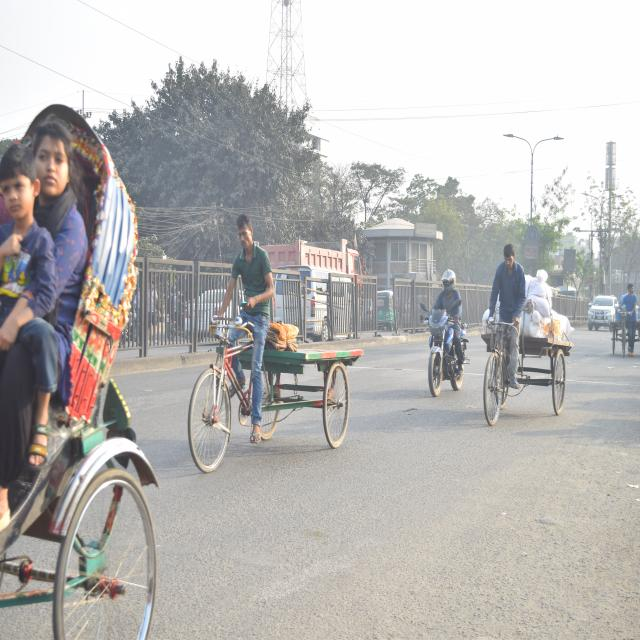car: (584, 285, 618, 332)
motorbike: (416, 290, 474, 404)
